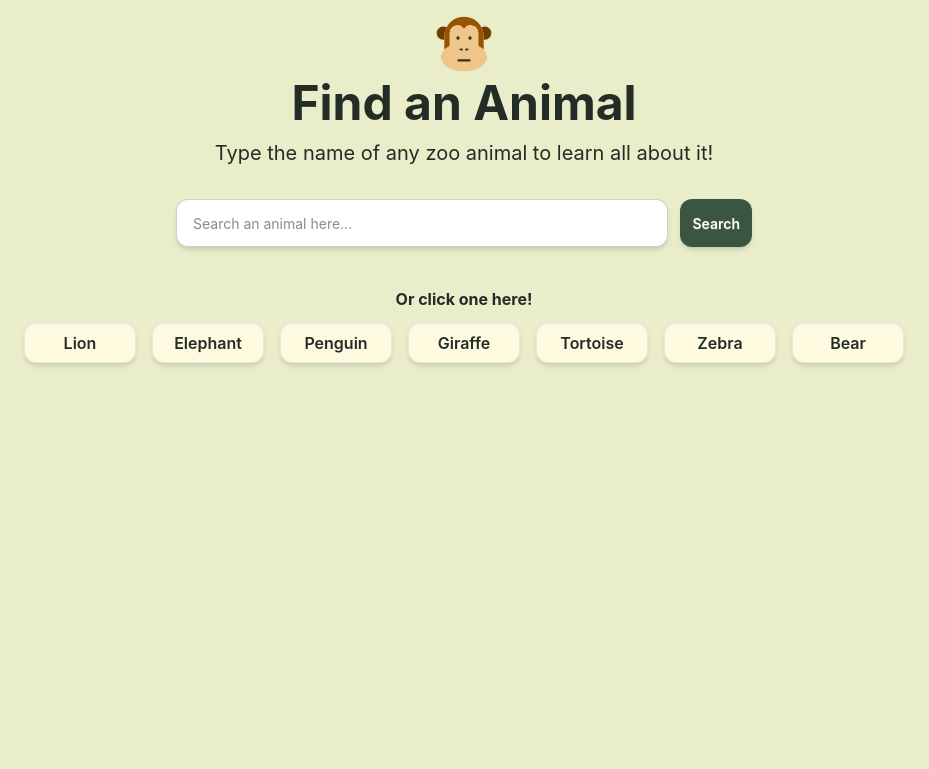
it: search › fetches and displays the searched animal
Type "camel" into the field with placeholder "Search an animal here..." at {"x": 422, "y": 223}, box [176, 199, 668, 247]
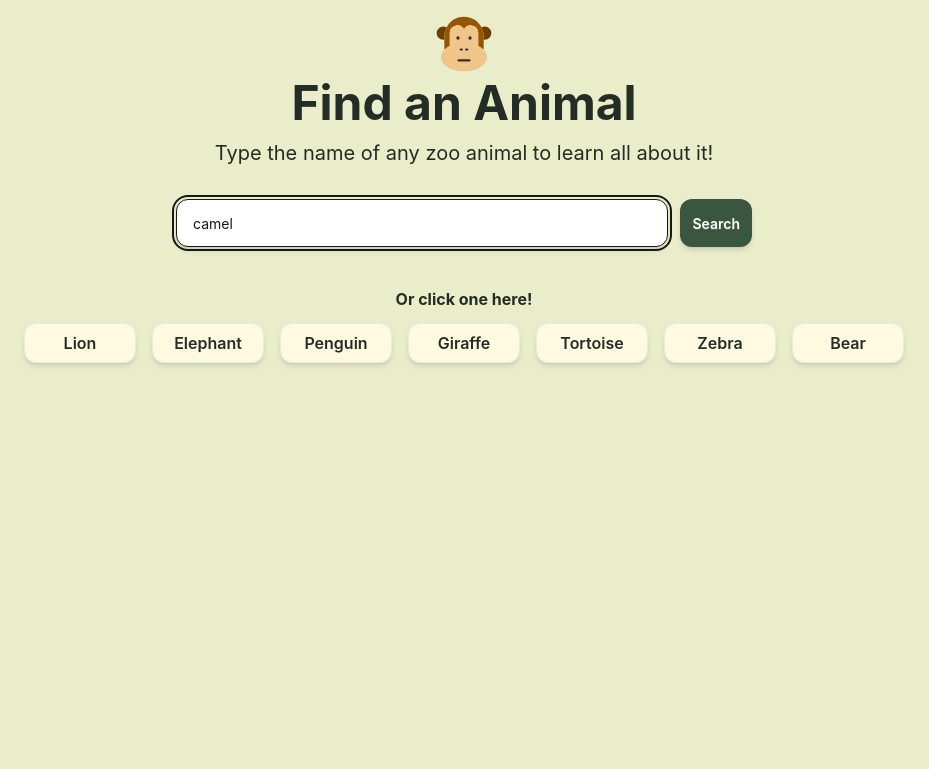
Click the button "Search" at {"x": 716, "y": 223}, box [680, 199, 752, 247]
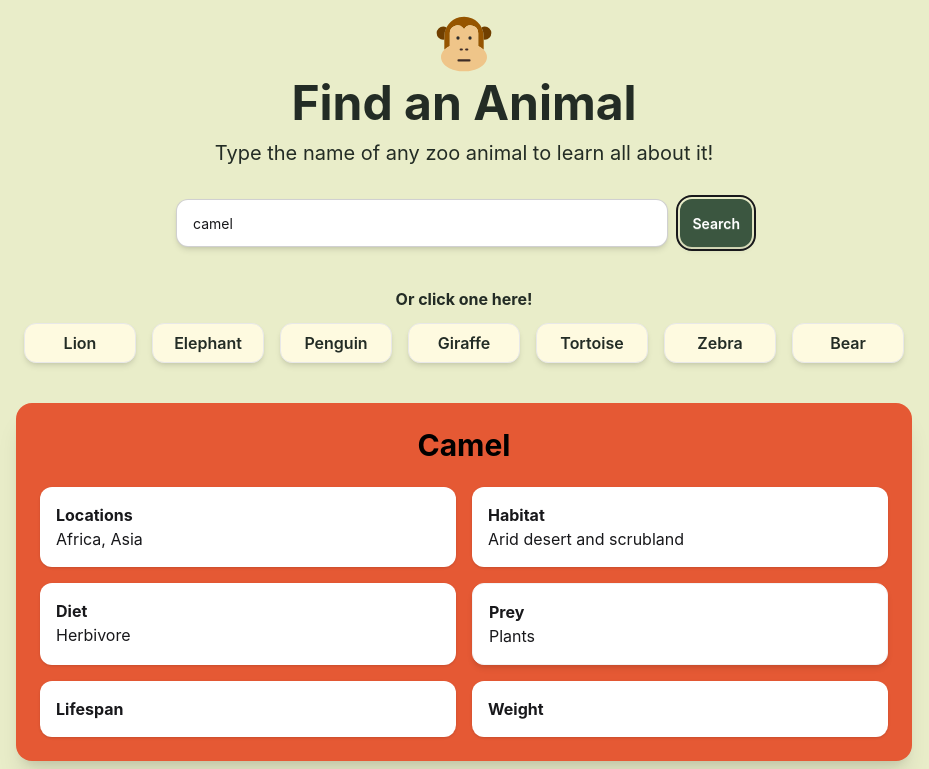
expect the heading "Camel" is shown: met, box [418, 427, 510, 463]
expect the text "Locations" is shown: met, box [56, 505, 133, 525]
expect the text "Habitat" is shown: met, box [488, 505, 545, 525]
